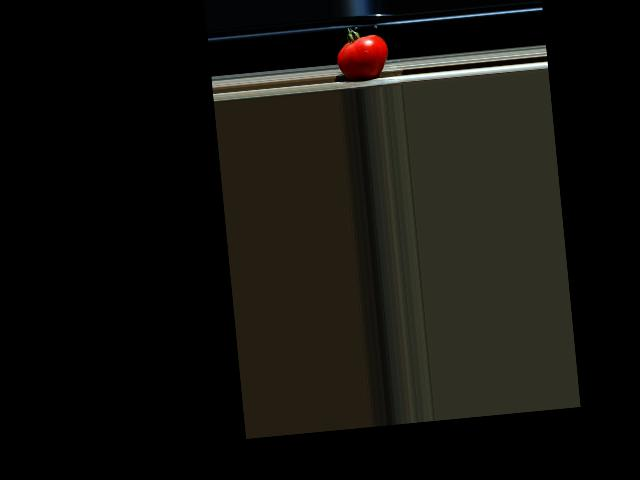tomato: (334, 24, 390, 81)
